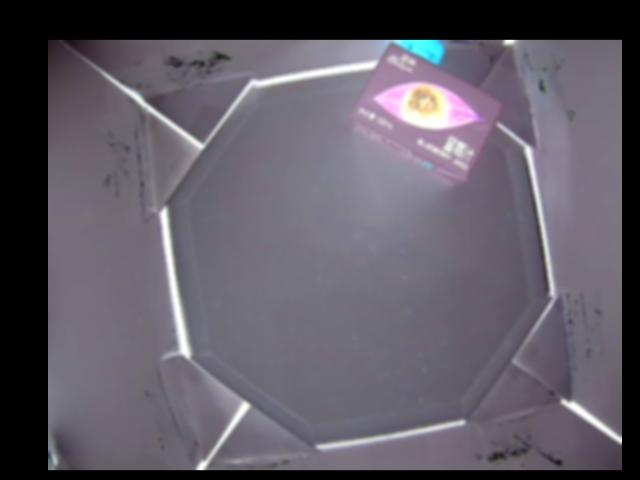Bottle: (352, 40, 505, 186)
